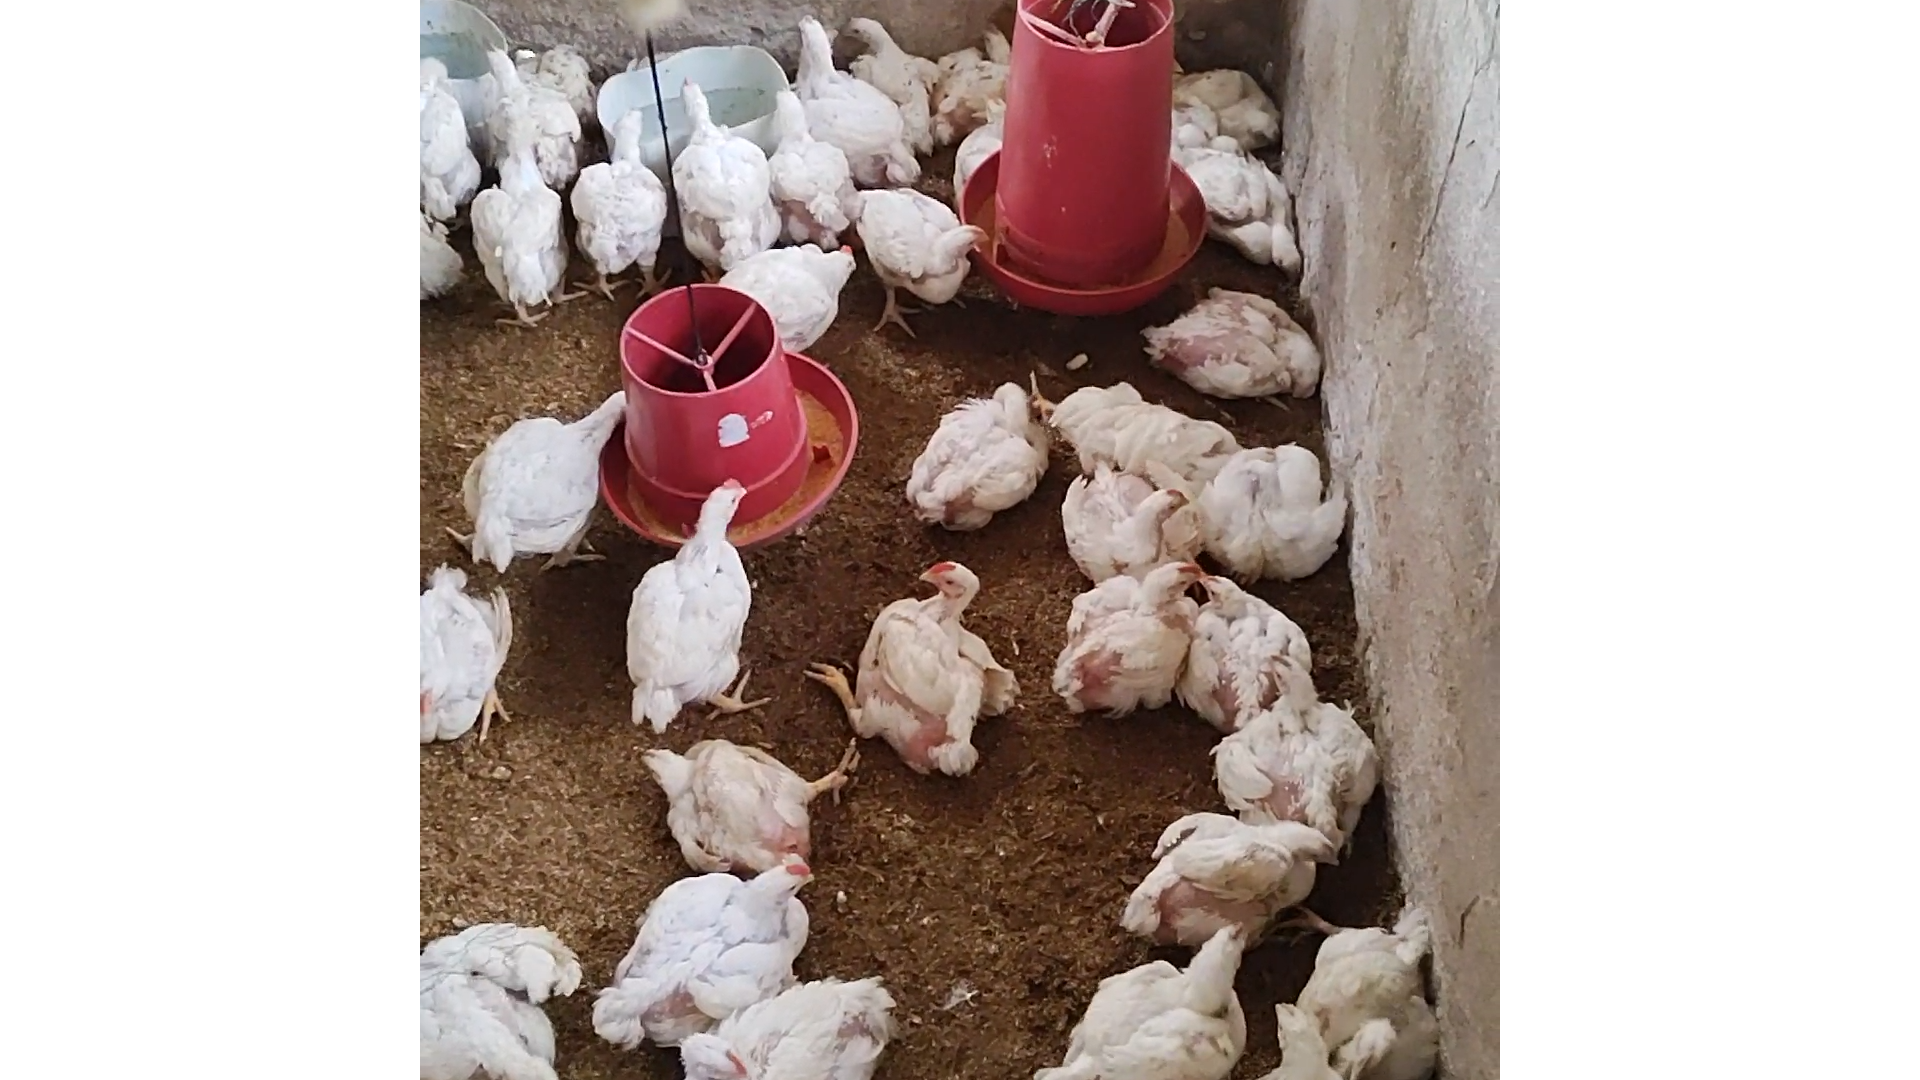Pollos: (811, 554, 1010, 803), (597, 839, 831, 1036), (621, 472, 773, 731), (446, 378, 634, 576), (1029, 924, 1266, 1077), (626, 727, 866, 872), (1098, 812, 1336, 957), (1265, 889, 1440, 1077), (1193, 694, 1386, 864), (415, 902, 580, 1080), (401, 554, 535, 744), (899, 367, 1048, 533), (675, 961, 895, 1073), (1048, 558, 1207, 712), (852, 182, 997, 334), (783, 20, 916, 182), (1142, 277, 1320, 393), (665, 80, 771, 269), (1174, 568, 1313, 712), (1200, 422, 1336, 564), (472, 142, 571, 330), (576, 105, 665, 307), (1073, 377, 1221, 487), (1060, 452, 1180, 585), (716, 244, 861, 353), (1178, 146, 1316, 258), (473, 44, 587, 173), (764, 76, 848, 247), (851, 8, 938, 144)
